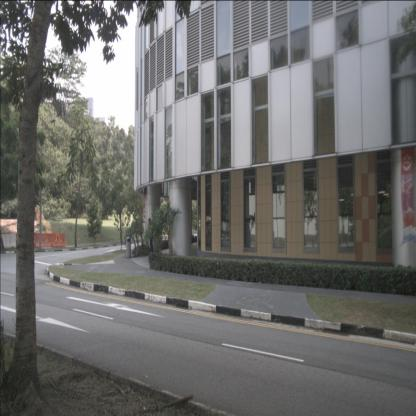barrier: (0, 233, 18, 250), (35, 232, 52, 248), (51, 232, 66, 248)
